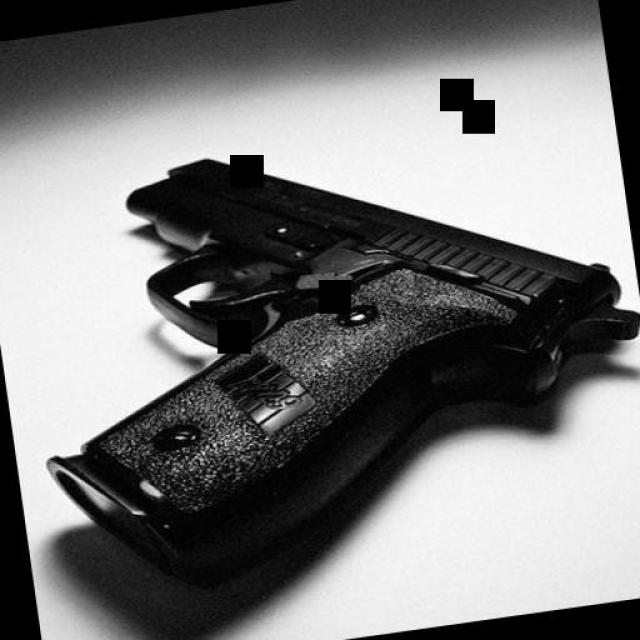gun: (7, 97, 640, 602)
